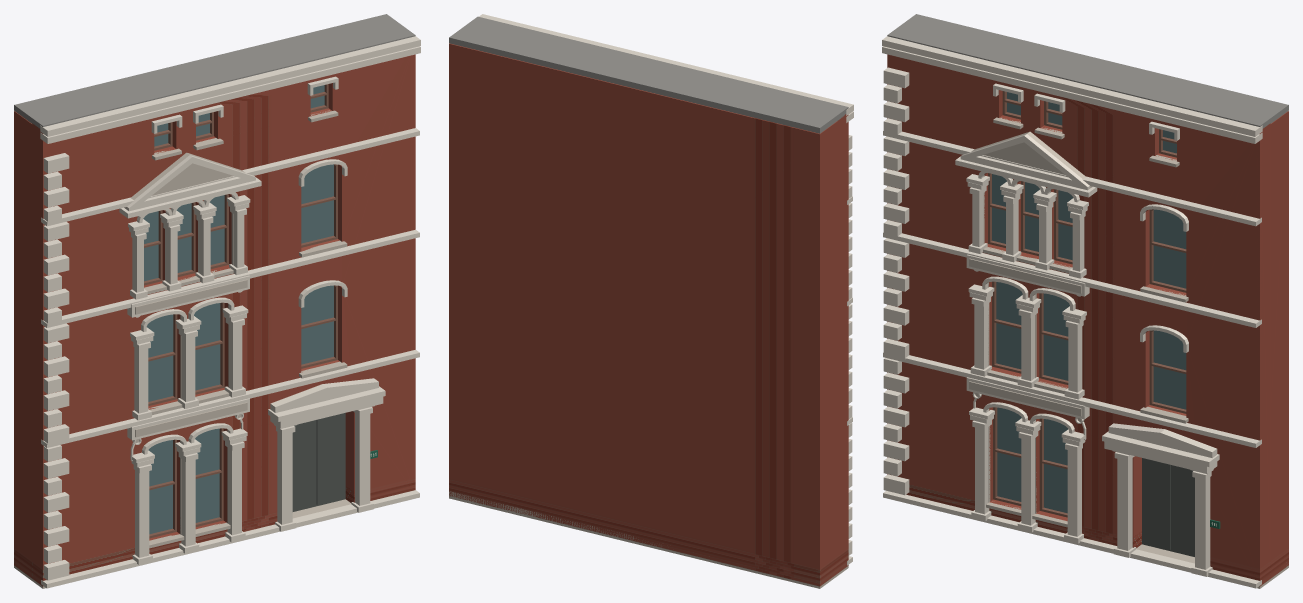
File: huangpu-mitsui-bussan-pediment-front-lod.glb
3 views of the same model, side by side, from view 1: azimuth 30°, elevation 25°; view 2: azimuth 150°, elevation 25°; view 3: azimuth 330°, elevation 25° (orthographic).
Parts seen in each view (by area): view 1: 三井洋行四川中路东立面南端山花与入口; view 2: 三井洋行四川中路东立面南端山花与入口; view 3: 三井洋行四川中路东立面南端山花与入口.
Boxes of the visible parts, box(x1,y1,x2,y2) form: 三井洋行四川中路东立面南端山花与入口: box(14, 14, 420, 588); 三井洋行四川中路东立面南端山花与入口: box(449, 14, 853, 588); 三井洋行四川中路东立面南端山花与入口: box(882, 14, 1288, 588).
Bounding box in the file's own units: 11.51 × 13.65 × 2.1.
9 materials, 1 textured.
